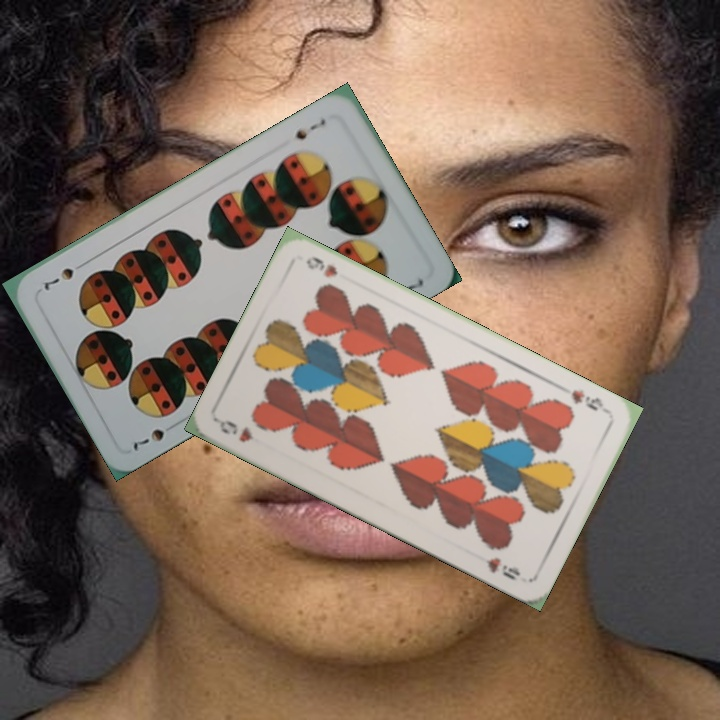H9: (215, 416, 257, 445), (566, 385, 606, 414)
S7: (128, 424, 168, 454), (291, 114, 328, 143)
